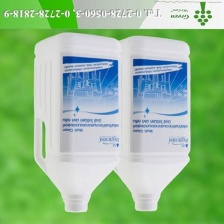cleaning_solution: (31, 29, 126, 216), (106, 31, 194, 214)
